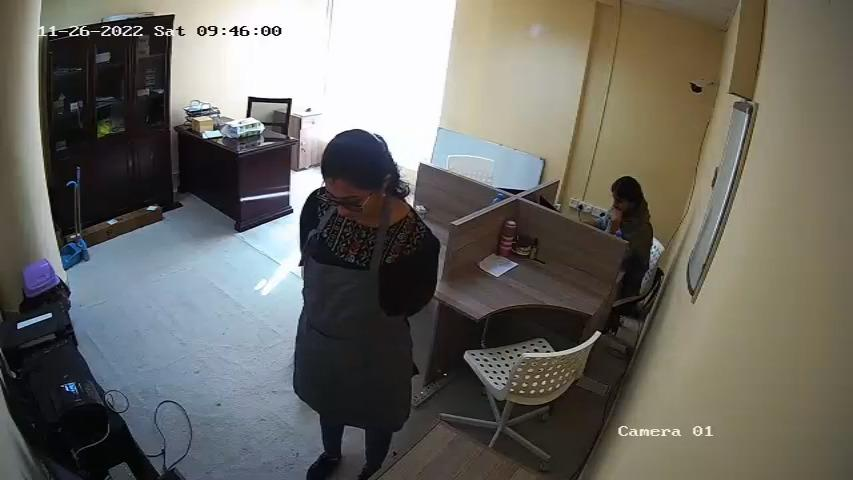apron: (300, 222, 411, 390)
